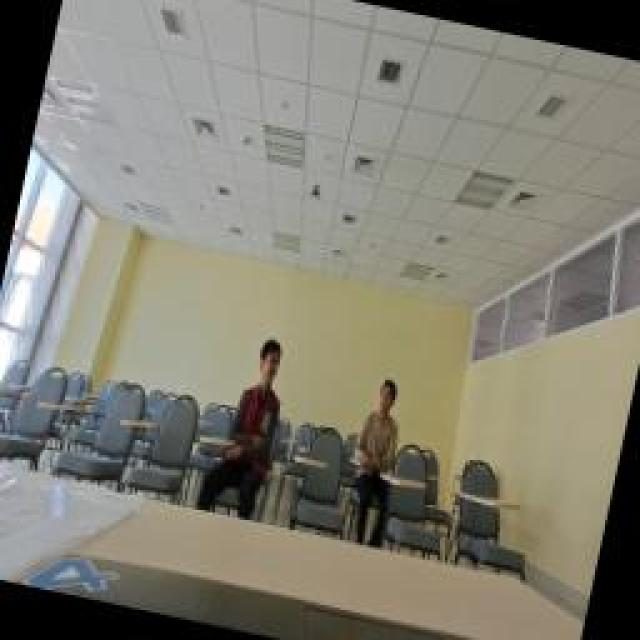study: (228, 330, 298, 455), (350, 368, 412, 470)
